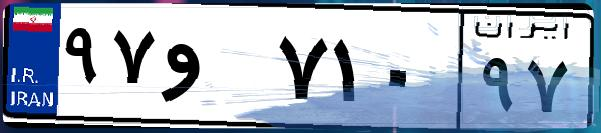0: (385, 28, 445, 110)
1: (330, 28, 385, 110)
7: (270, 28, 330, 110), (525, 38, 570, 115), (110, 28, 158, 98)
9: (57, 26, 110, 100), (475, 38, 525, 113)
و: (158, 20, 270, 120)
